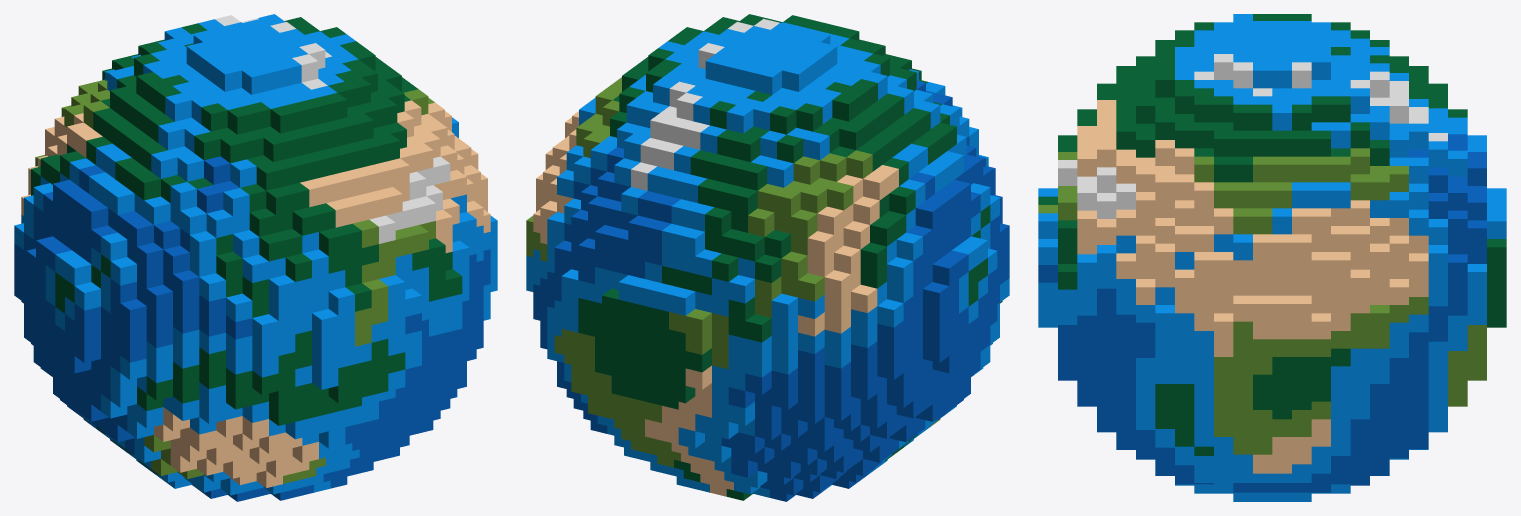
The model's file is earth.obj.
The picture shows the model from 3 angles, left to right: view 1: azimuth 30°, elevation 25°; view 2: azimuth 150°, elevation 25°; view 3: azimuth 270°, elevation 25°; orthographic projection.
Visible parts, largest first — view 1: earth; view 2: earth; view 3: earth.
Boxes of the visible parts, bbox=[...] form: earth: bbox=[14, 14, 497, 501]; earth: bbox=[526, 14, 1009, 501]; earth: bbox=[1038, 14, 1506, 501].
Bounding box in the file's own units: 2.4 × 2.4 × 2.4.
